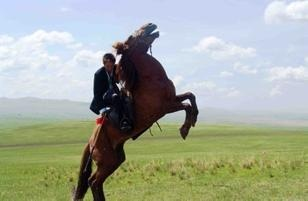person without safety: (91, 53, 118, 99)
